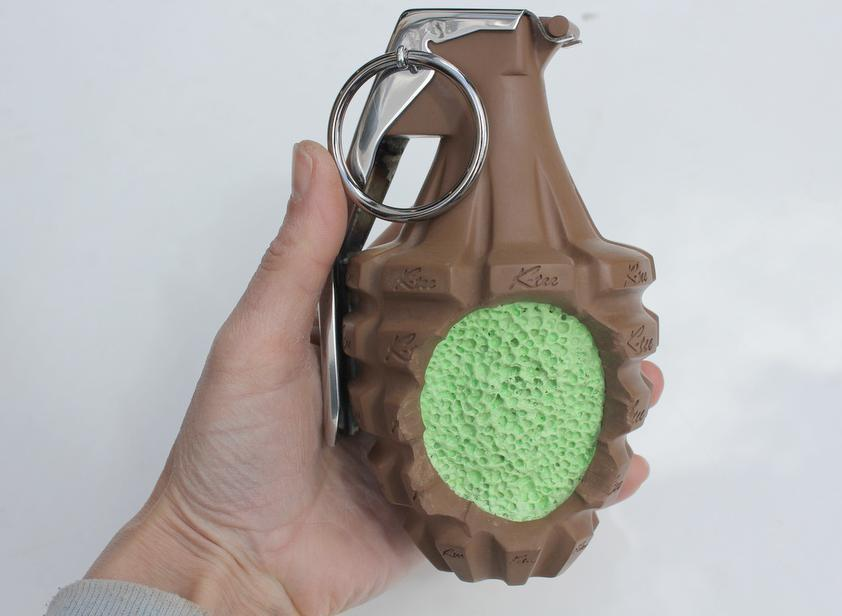Grenade: (316, 4, 660, 587)
